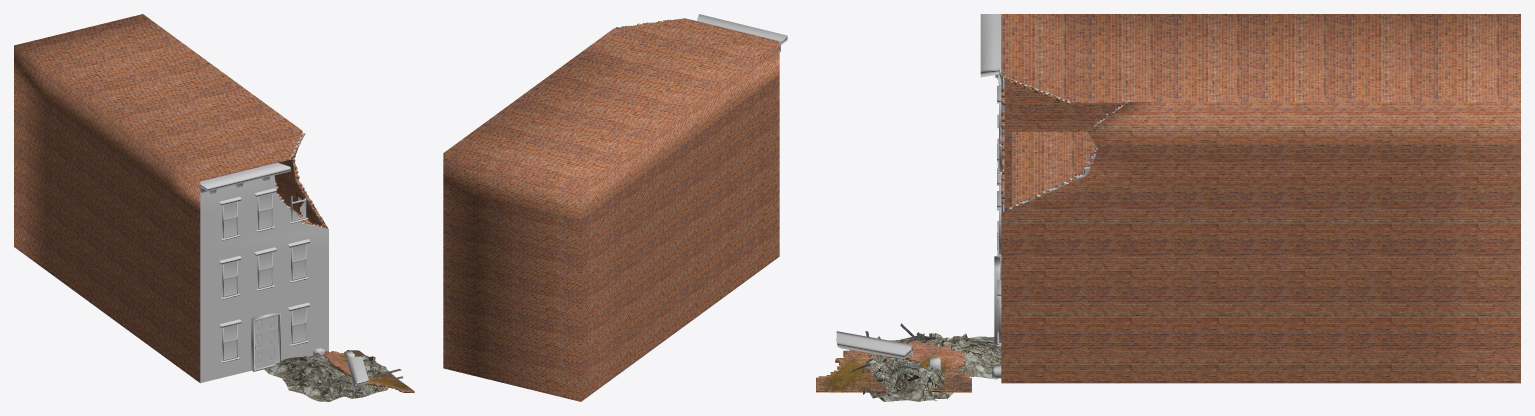
The model's file is BrokenHouse.fbx.
3 renders of one model, left to right at view 1: azimuth 30°, elevation 25°; view 2: azimuth 150°, elevation 25°; view 3: azimuth 270°, elevation 25°, orthographic. The views are drawn at different scales.
Visible parts, largest first — view 1: HouseBr_LOD0; view 2: HouseBr_LOD0; view 3: HouseBr_LOD0.
Part boxes in pixels (box(x1,y1,x2,y2)): HouseBr_LOD0: box(14, 14, 414, 401); HouseBr_LOD0: box(443, 14, 787, 401); HouseBr_LOD0: box(816, 14, 1520, 401).
Size of what is drawn, in the model's own units: 0.0728 by 0.0915 by 0.2041.
